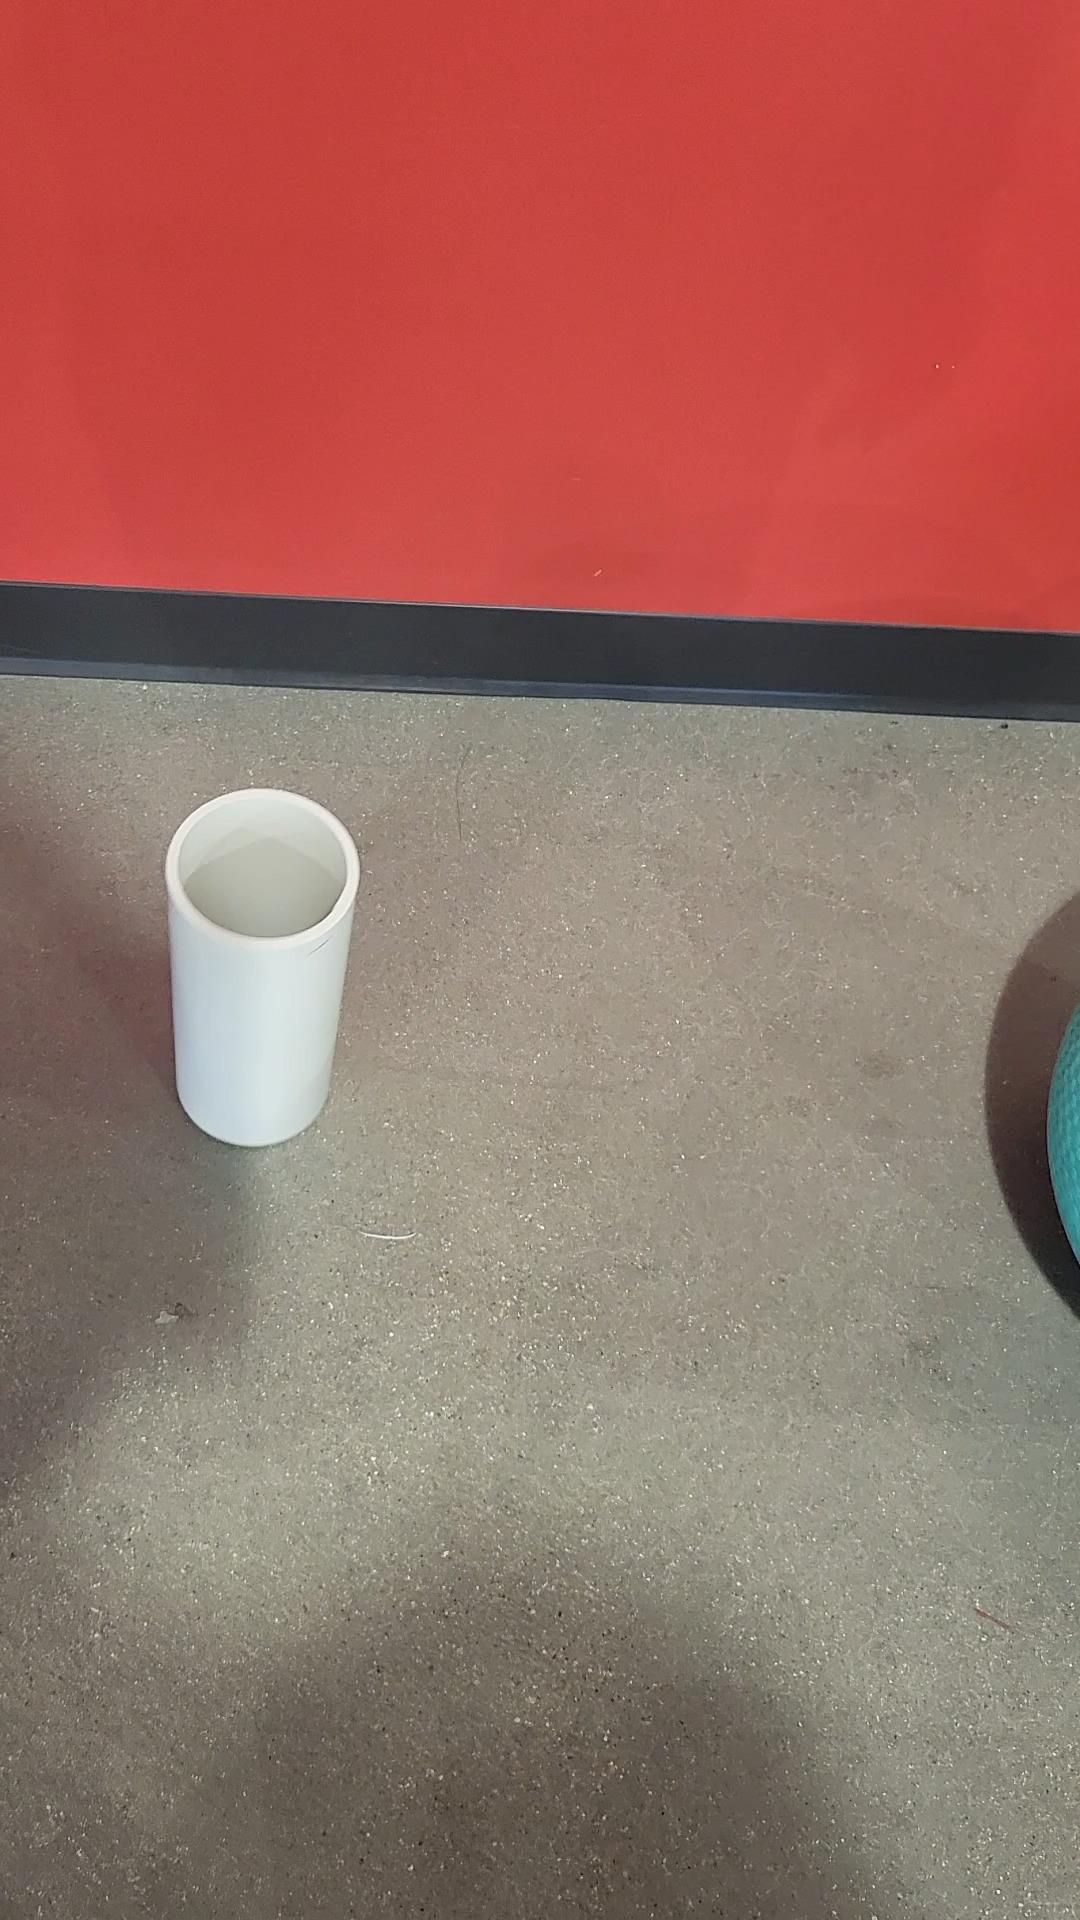algae: (1056, 1001, 1080, 1265)
coral: (174, 781, 349, 1127)
